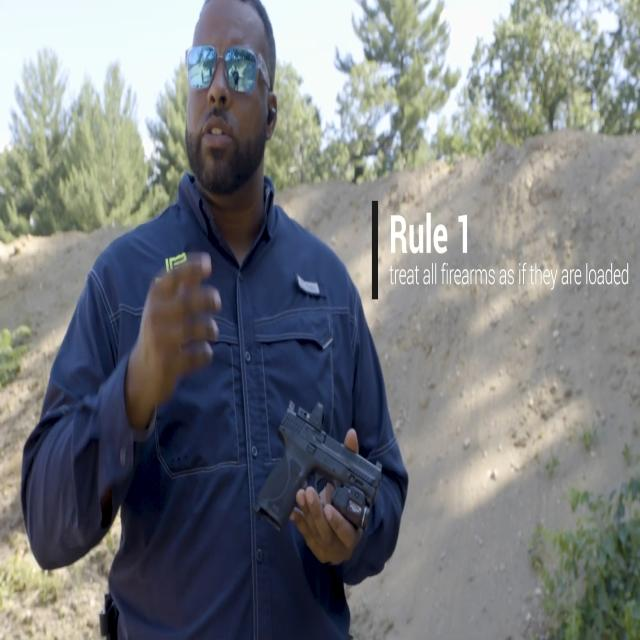Gun_Holder: (250, 376, 379, 555)
Person: (27, 0, 402, 640)
